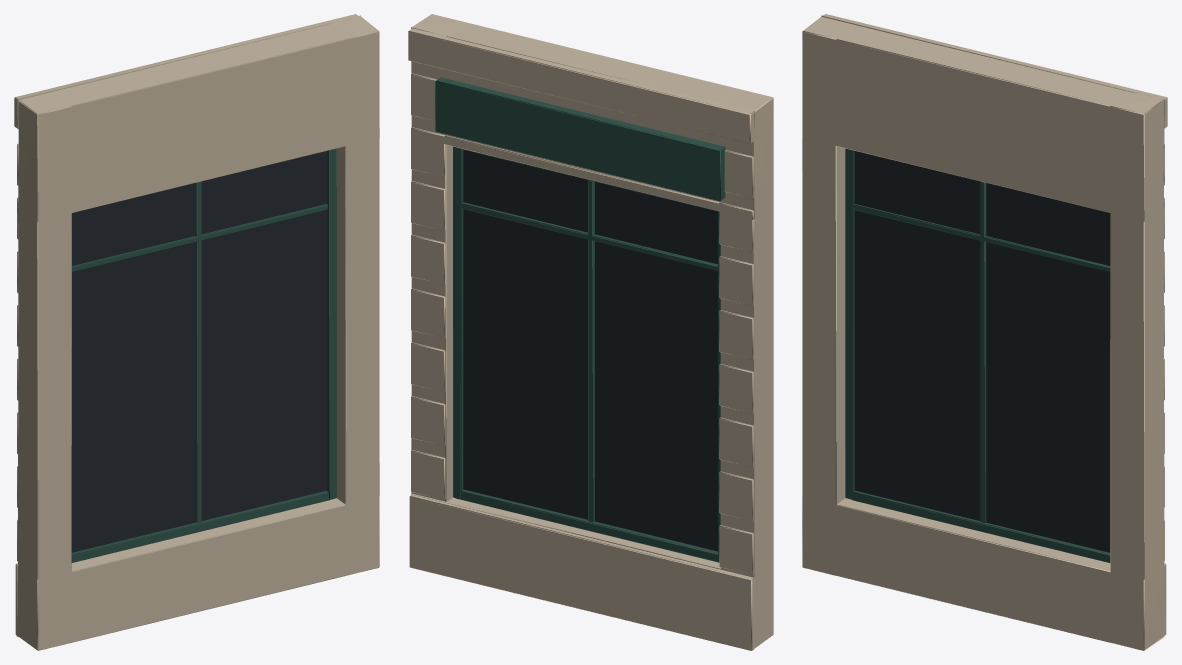
File: SM_VB_FacA_GroundShop.fbx
3 renders of one model, left to right at view 1: azimuth 30°, elevation 25°; view 2: azimuth 150°, elevation 25°; view 3: azimuth 330°, elevation 25°, orthographic.
Parts seen in each view (by area): view 1: SM_VB_FacA_GroundShop; view 2: SM_VB_FacA_GroundShop; view 3: SM_VB_FacA_GroundShop.
Boxes of the visible parts, x1,y1,x2,y2 form: SM_VB_FacA_GroundShop: (14, 14, 379, 650); SM_VB_FacA_GroundShop: (408, 14, 773, 650); SM_VB_FacA_GroundShop: (802, 14, 1167, 650).
Bounding box in the file's own units: 3.01 × 4.51 × 0.38.
